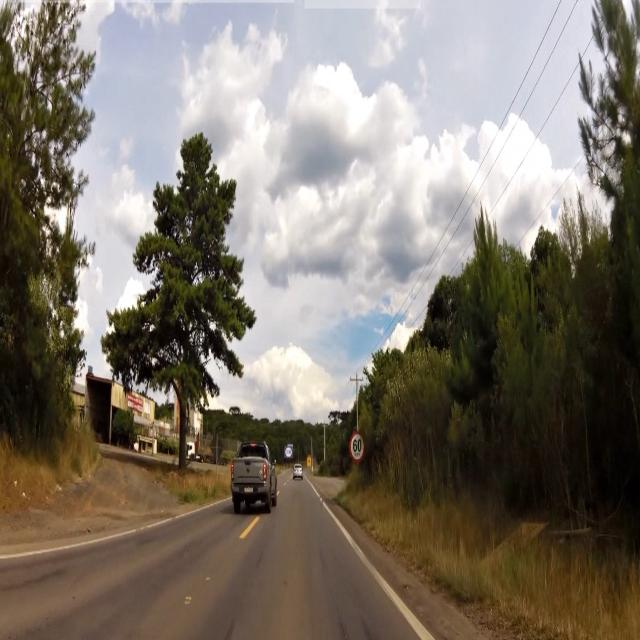R-19: (347, 430, 369, 464)
